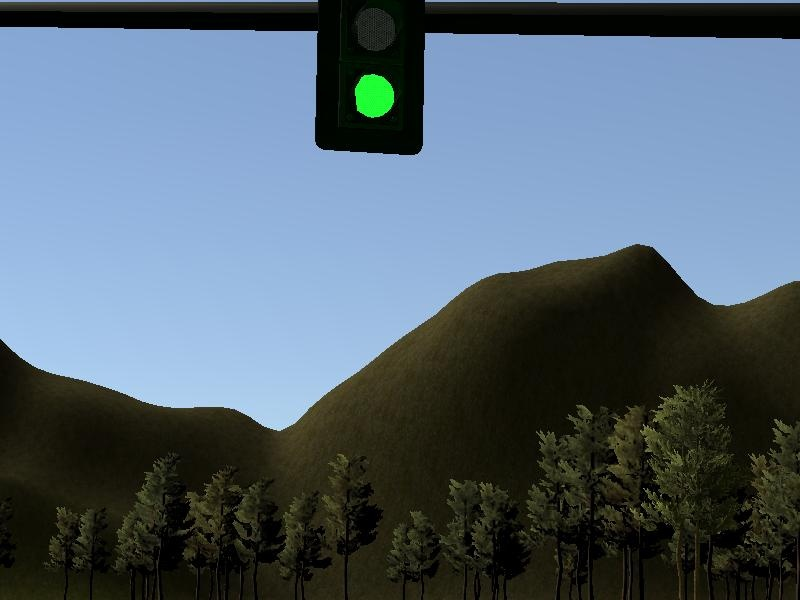GREEN: (286, 1, 454, 160)
